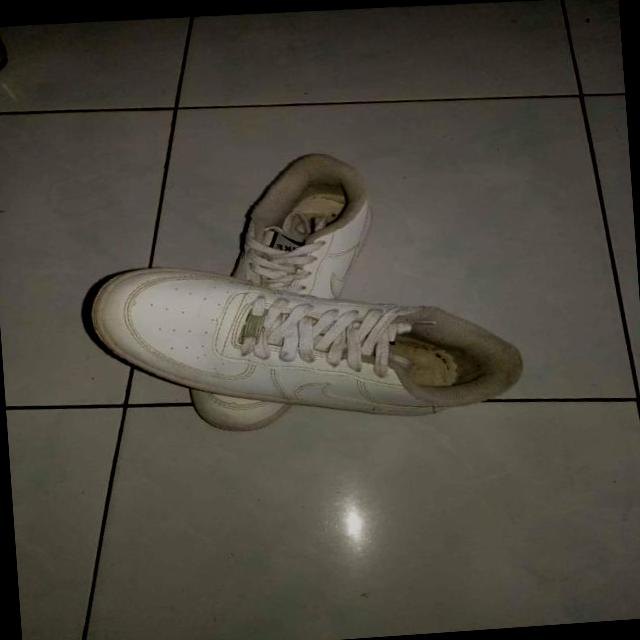nike_fake_airforce: (78, 240, 527, 441), (164, 145, 405, 435)
